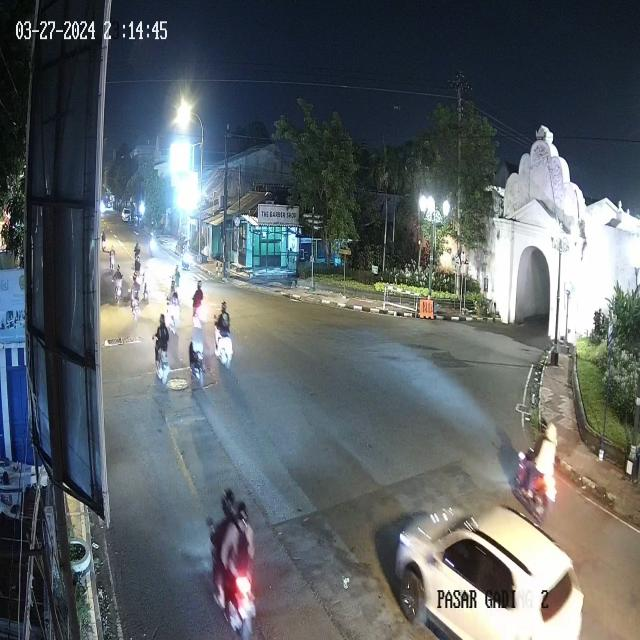car: (395, 503, 584, 640)
motorcycle: (207, 481, 257, 640), (516, 413, 556, 520), (189, 313, 207, 384), (214, 302, 233, 365), (154, 314, 168, 384), (167, 280, 181, 332), (191, 280, 205, 324), (130, 272, 140, 323), (113, 264, 123, 304), (181, 239, 191, 272), (148, 230, 158, 258), (109, 246, 116, 272), (134, 238, 140, 266), (100, 228, 106, 252)
